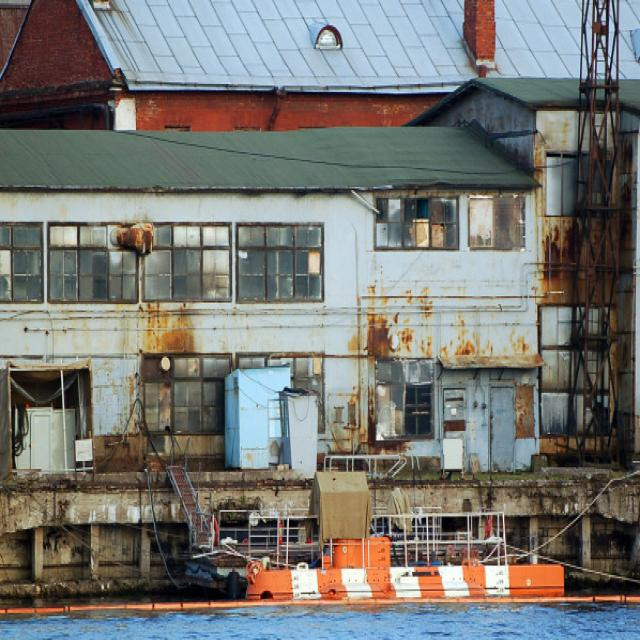submarine: (246, 540, 567, 597)
